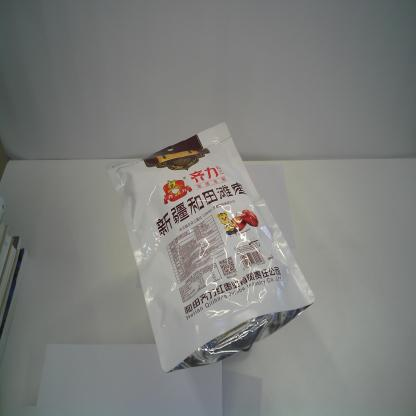Dried Food: (108, 122, 316, 374)
